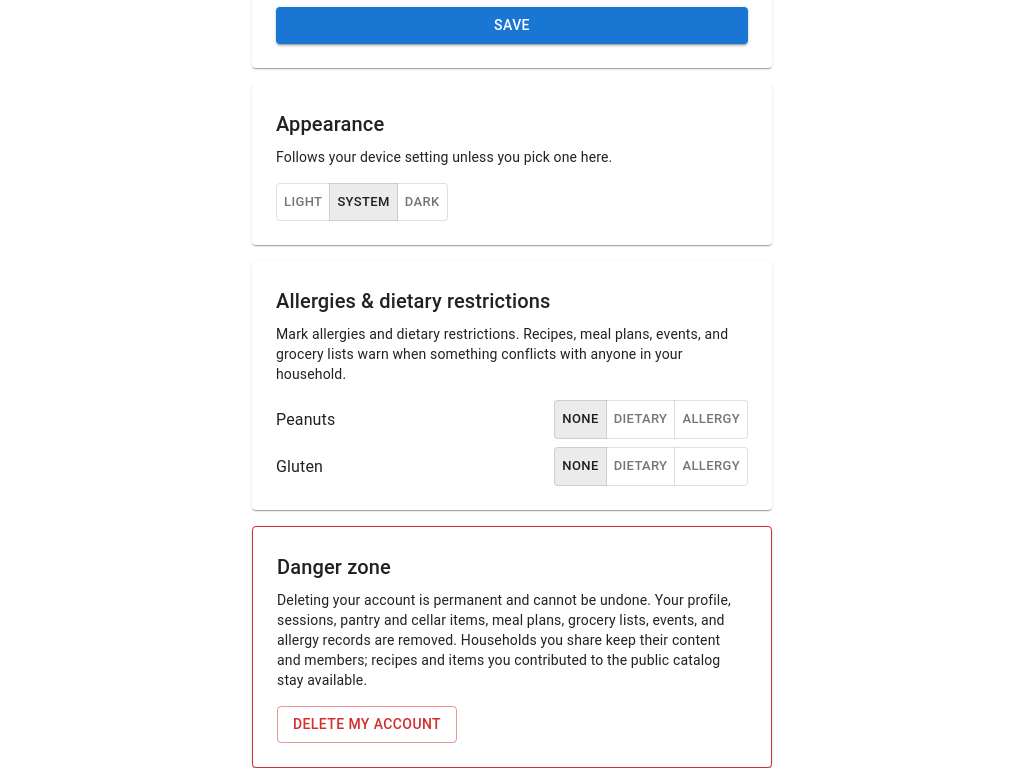
Test: profile page › disclaimer consent › opens the consent dialog instead of writing when unaccepted
(page scrolled)
Click the button "Dietary" in the row of "Gluten" at (641, 467), box [606, 447, 676, 486]
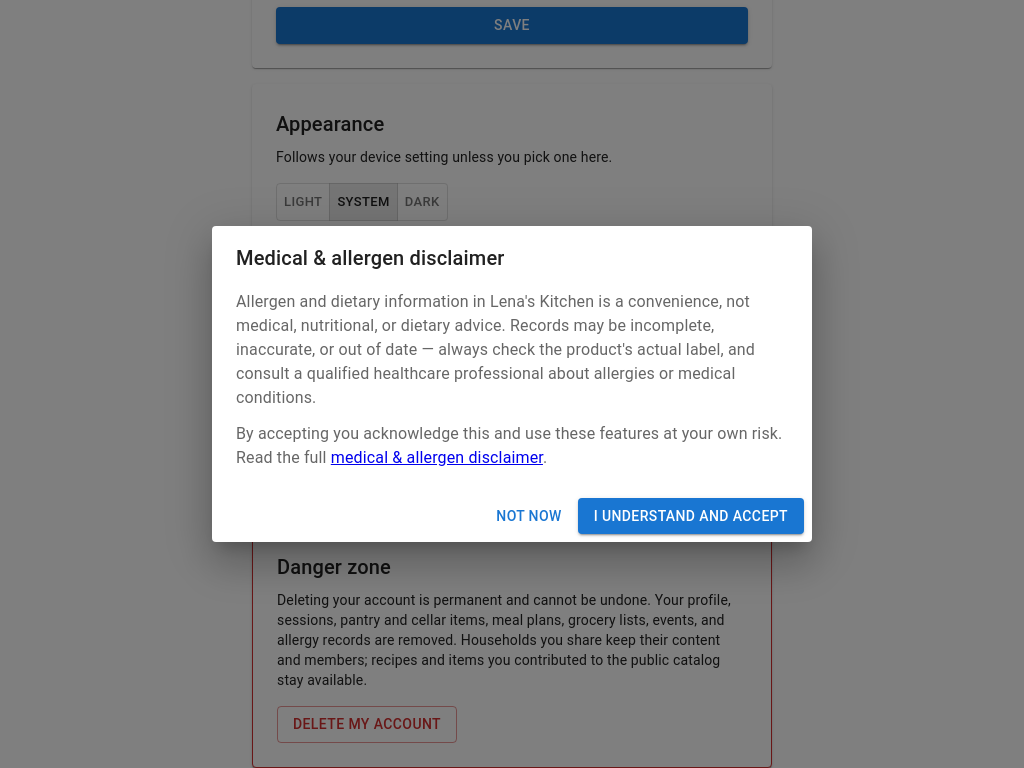
Expected: the text "not medical, nutritional, or dietary advice" is shown, [236, 292, 755, 407]
